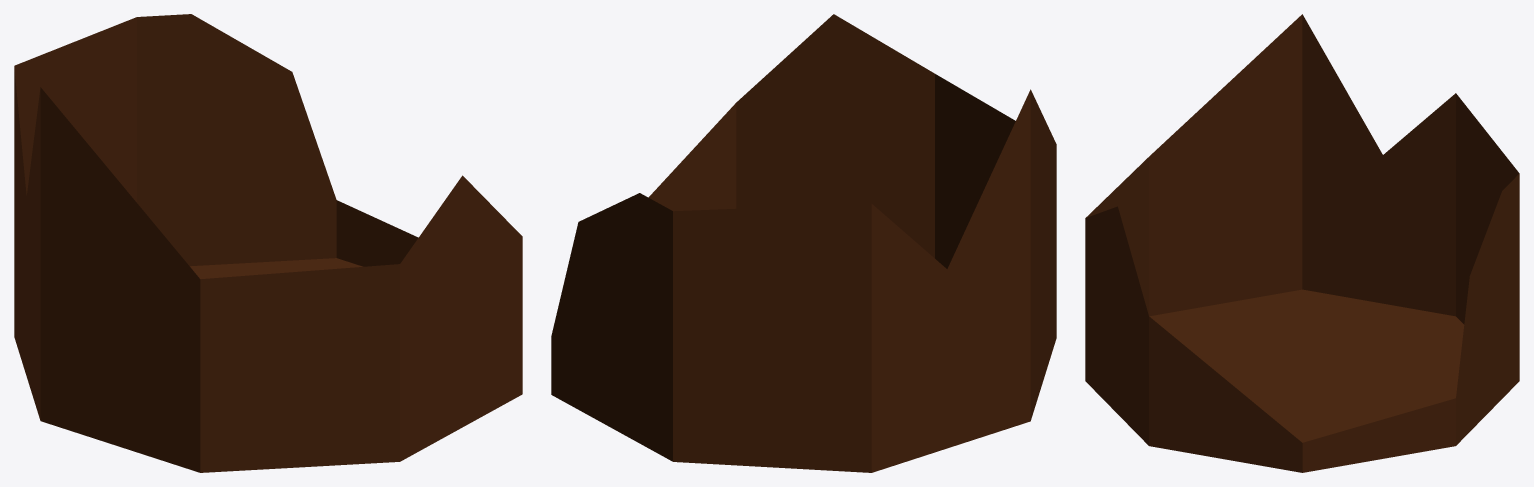
The model's file is Butelka_d.fbx.
3 renders of one model, left to right at view 1: azimuth 30°, elevation 25°; view 2: azimuth 150°, elevation 25°; view 3: azimuth 270°, elevation 25°, orthographic. The views are drawn at different scales.
Visible parts, largest first — view 1: Piwo_rozwalone3; view 2: Piwo_rozwalone3; view 3: Piwo_rozwalone3.
Part boxes in pixels (bbox=[...]): Piwo_rozwalone3: bbox=[14, 14, 522, 472]; Piwo_rozwalone3: bbox=[551, 14, 1056, 472]; Piwo_rozwalone3: bbox=[1085, 14, 1519, 472].
Size of the model in its own units: 19.58 by 13.71 by 19.58.
